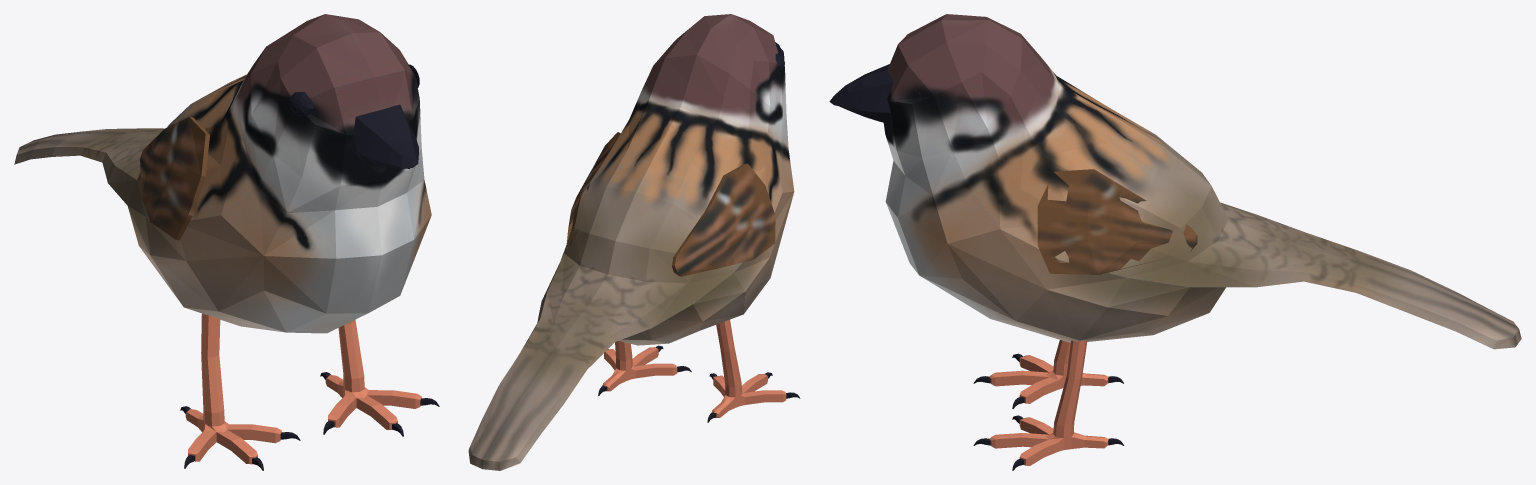
File: Bird.glb
3 renders of one model, left to right at view 1: azimuth 30°, elevation 25°; view 2: azimuth 150°, elevation 25°; view 3: azimuth 270°, elevation 25°, orthographic. The views are drawn at different scales.
Visible parts, largest first — view 1: Node; view 2: Node; view 3: Node.
Part boxes in pixels (<box>): Node: <box>14,14,439,470</box>; Node: <box>468,14,800,470</box>; Node: <box>829,14,1521,470</box>.
Size of the model in its own units: 2.16 by 3.51 by 5.58.
Materials: 4 (2 with a texture image).
